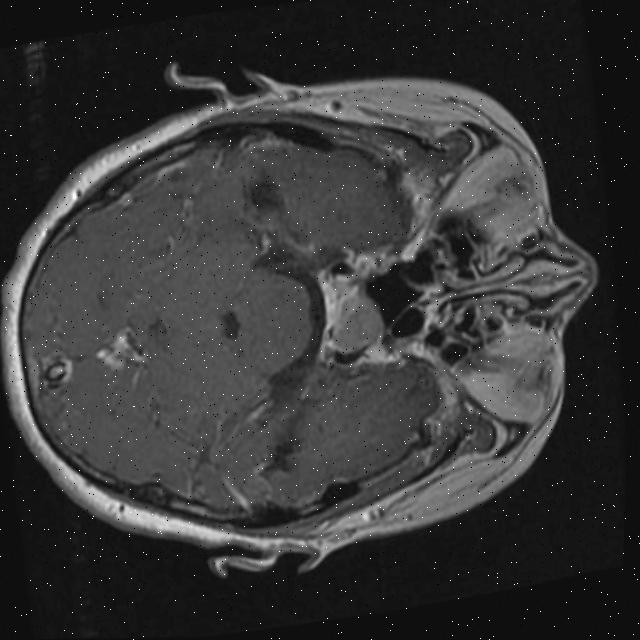Pituitary: (321, 285, 385, 359)
